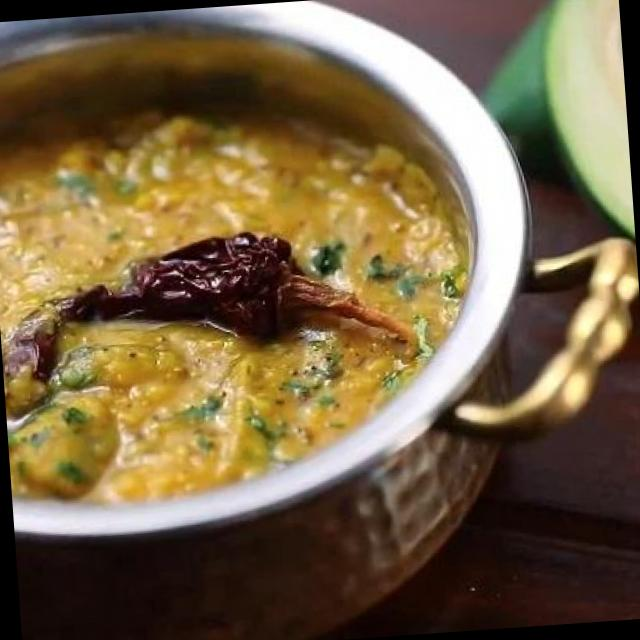dal: (0, 62, 482, 515)
